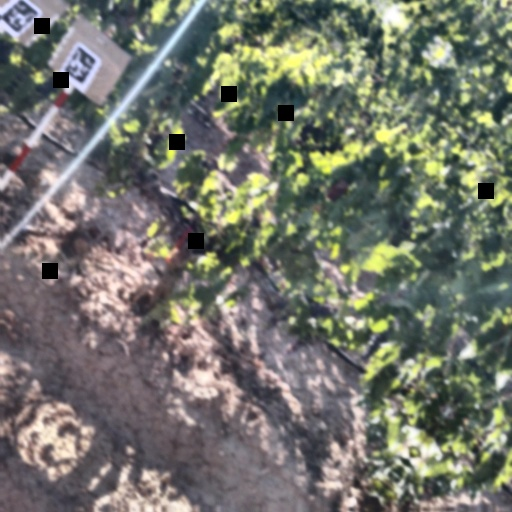QR: (61, 49, 96, 85)
